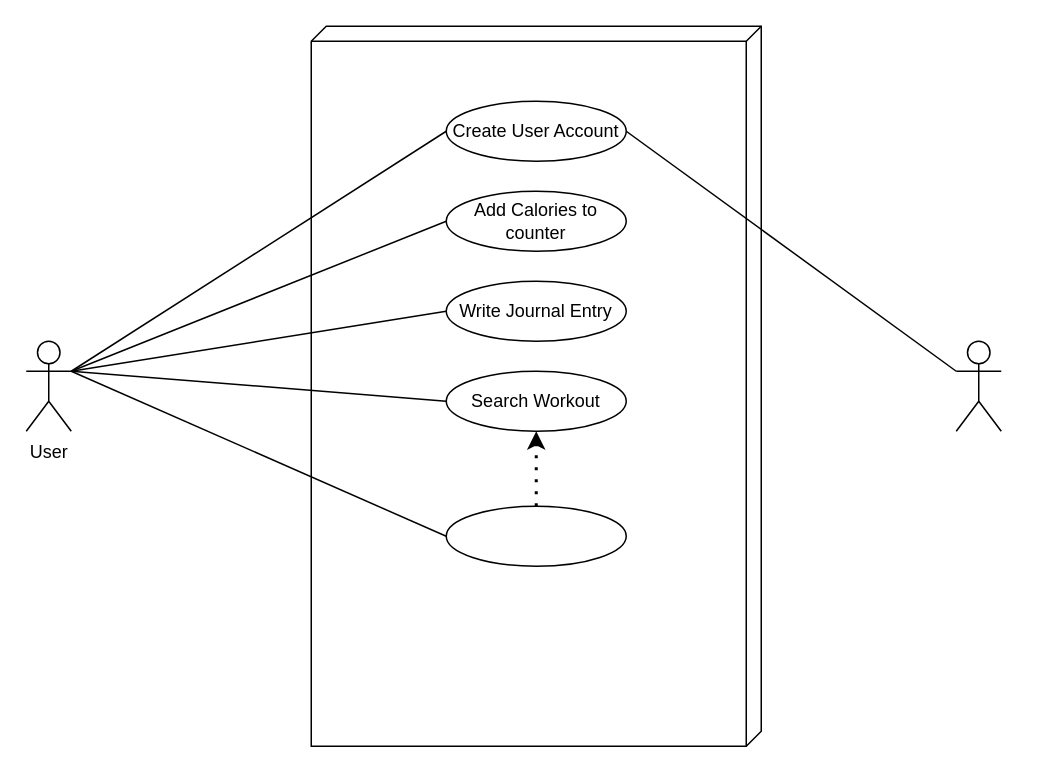
The diagram is 1058 pixels wide and 773 high, and some of its shapes have lost their labels. Each missing label, with the box of its shape:
Administrator: (955, 340, 1001, 431)
Fitness Freaks:: (310, 25, 761, 746)
Select Workout: (445, 505, 626, 566)
